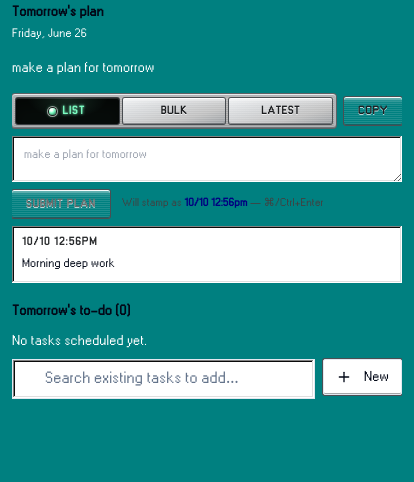
Test: DayReviewTomorrowSection › shows tomorrow's plan log and lets you submit a new entry
The width and height of the screenshot is (414, 482).
Expected: the text "Morning deep work" is shown, x1=22 y1=258 x2=115 y2=268
Type "Ship feature" into the text box with test id "tomorrow-plan-text" at (207, 159), box x1=12 y1=136 x2=402 y2=182
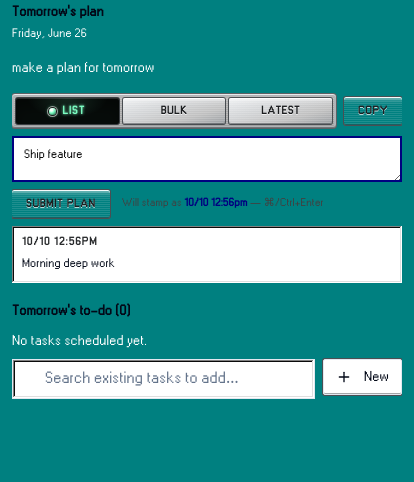
Click the button "Submit plan" at (61, 204), box x1=12 y1=190 x2=110 y2=218
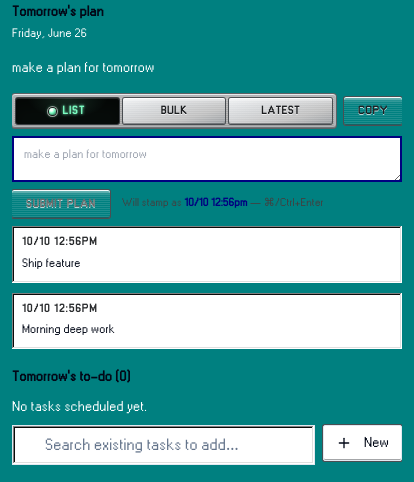
Expected: the text "Ship feature" is shown, x1=22 y1=258 x2=81 y2=268
Expected: the text box with test id "tomorrow-plan-text" is empty, x1=12 y1=136 x2=402 y2=182
